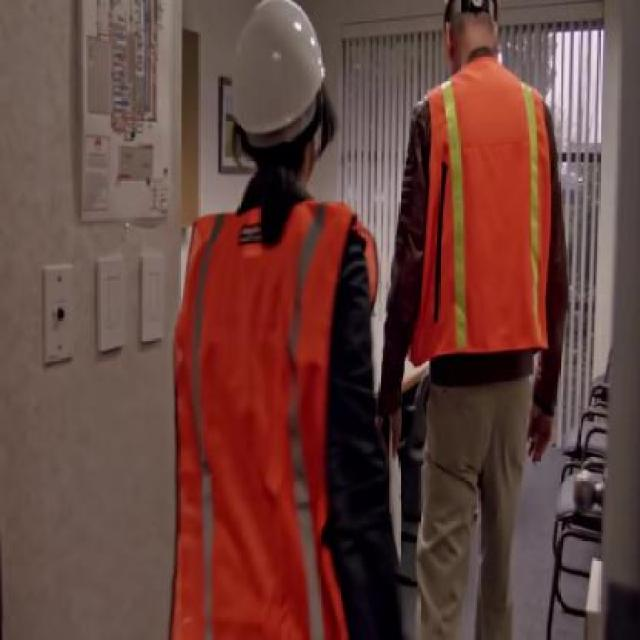Vest: (167, 201, 382, 636), (407, 53, 551, 370)
helmet: (228, 0, 327, 137)
person: (162, 5, 381, 640), (388, 1, 570, 640)
